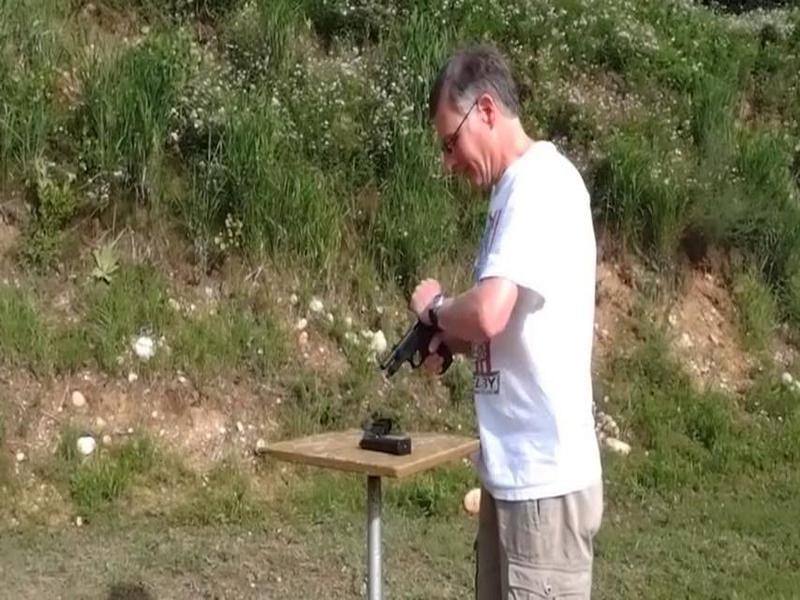Pistola: (374, 293, 460, 387)
